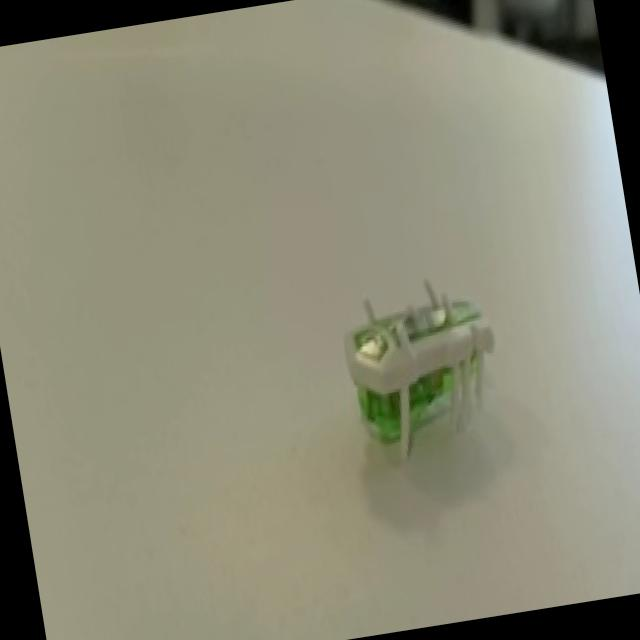4_NanoBug_Blanco: (316, 258, 538, 494)
